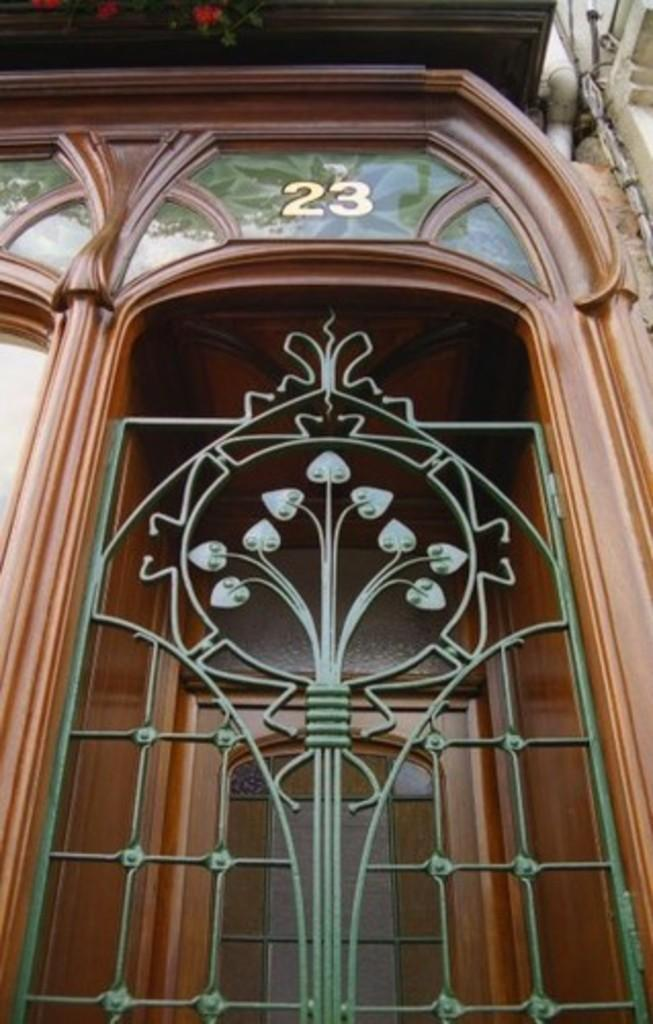door: (113, 337, 556, 1024)
